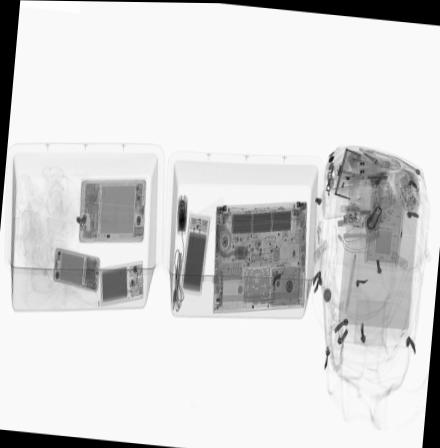Powerbank: (179, 210, 210, 297), (96, 257, 142, 307)
